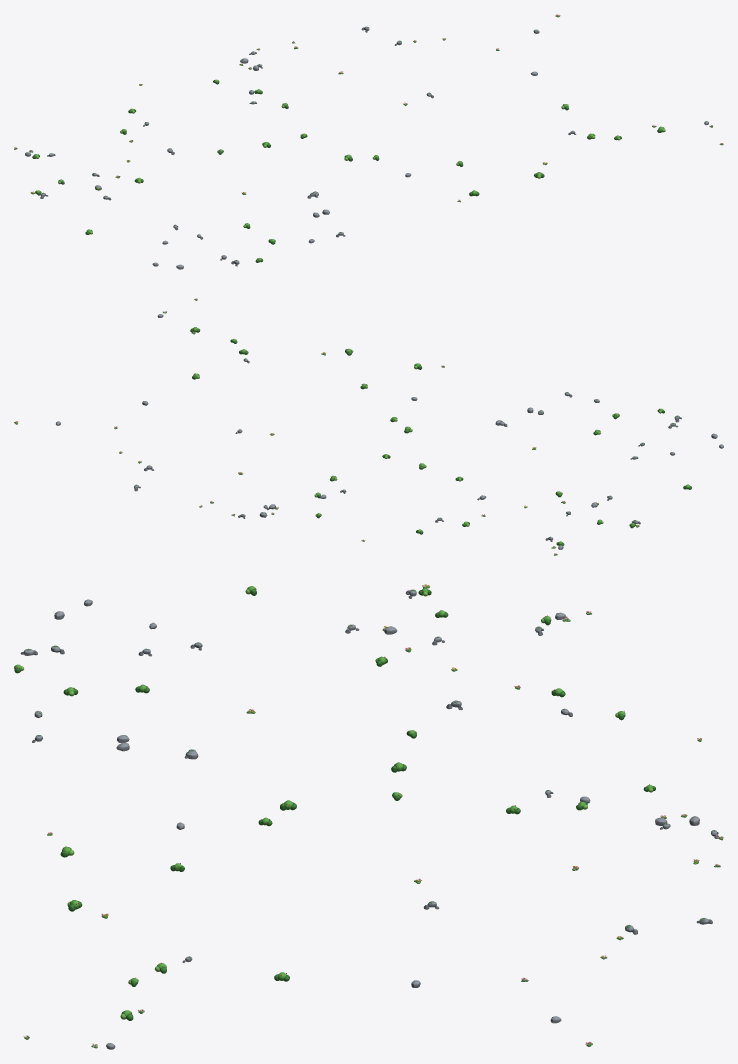
File: level_2_decor.glb
The picture shows the model from 3 angles, top to bottom: view 1: azimuth 30°, elevation 25°; view 2: azimuth 150°, elevation 25°; view 3: azimuth 270°, elevation 25°; orthographic projection. The views are drawn at different scales.
Visible parts, largest first — view 1: Chunk_m1_m1; view 2: Chunk_m1_m1; view 3: Chunk_m1_m1, Chunk_0_0, Chunk_m1_0, Chunk_0_m1, Chunk_m2_m1.
Boxes of the visible parts, left/top/right/bottom form: Chunk_m1_m1: left=120, top=63, right=307, bottom=183; Chunk_m1_m1: left=271, top=454, right=562, bottom=541; Chunk_m1_m1: left=375, top=656, right=701, bottom=818; Chunk_0_0: left=47, top=817, right=289, bottom=986; Chunk_m1_0: left=14, top=664, right=296, bottom=810; Chunk_0_m1: left=414, top=816, right=723, bottom=981; Chunk_m2_m1: left=382, top=584, right=591, bottom=652.
Size of what is drawn, in the model's own units: 42.5 by 0.3875 by 27.56.
Materials: 1 (1 with a texture image).
